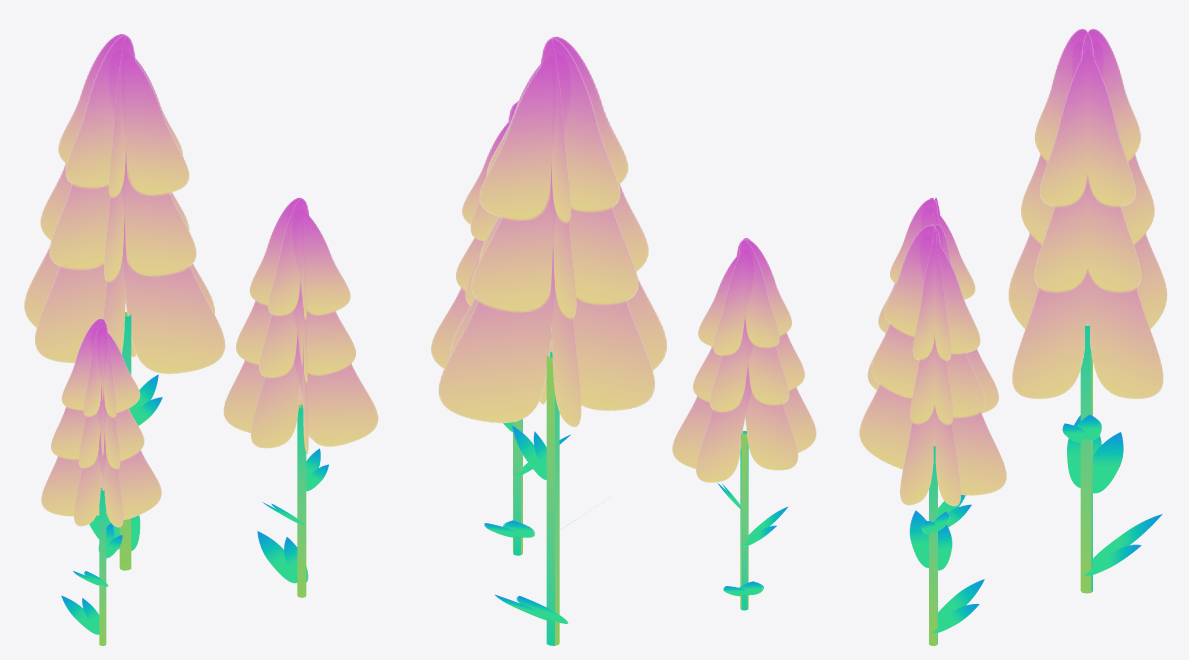
The model's file is Flowers_n02_11.fbx.
3 renders of one model, left to right at view 1: azimuth 30°, elevation 25°; view 2: azimuth 150°, elevation 25°; view 3: azimuth 270°, elevation 25°, orthographic. The views are drawn at different scales.
Visible parts, largest first — view 1: polySurface193; view 2: polySurface193; view 3: polySurface193.
Part boxes in pixels (x1,y1,x2,y2): polySurface193: (24, 34, 378, 645); polySurface193: (431, 36, 816, 645); polySurface193: (859, 28, 1167, 645).
Size of the model in its own units: 26.96 by 42.75 by 21.57.
1 material, 1 textured.
